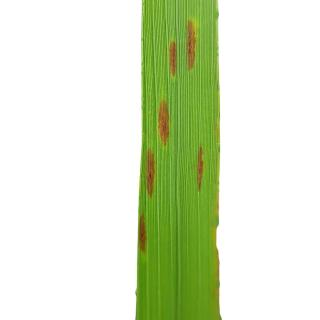Bercak-Cokelat-Sempit: (184, 19, 202, 70), (155, 96, 173, 146), (192, 142, 208, 196), (142, 147, 158, 200), (165, 36, 179, 84), (138, 212, 150, 254)
